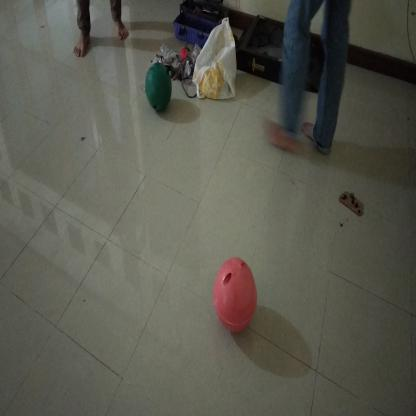green_buoy: (142, 61, 173, 115)
red_buoy: (212, 255, 259, 337)
